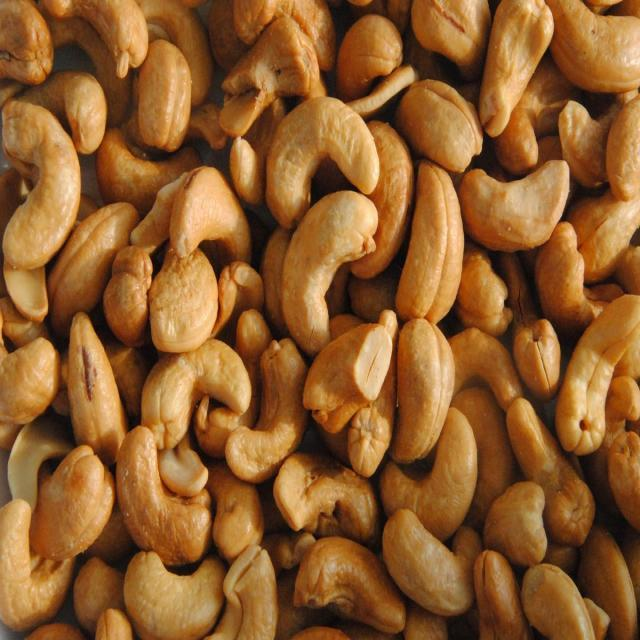Frutta secca: (8, 2, 638, 640)
